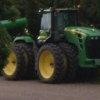Tractor: (6, 12, 100, 77)
